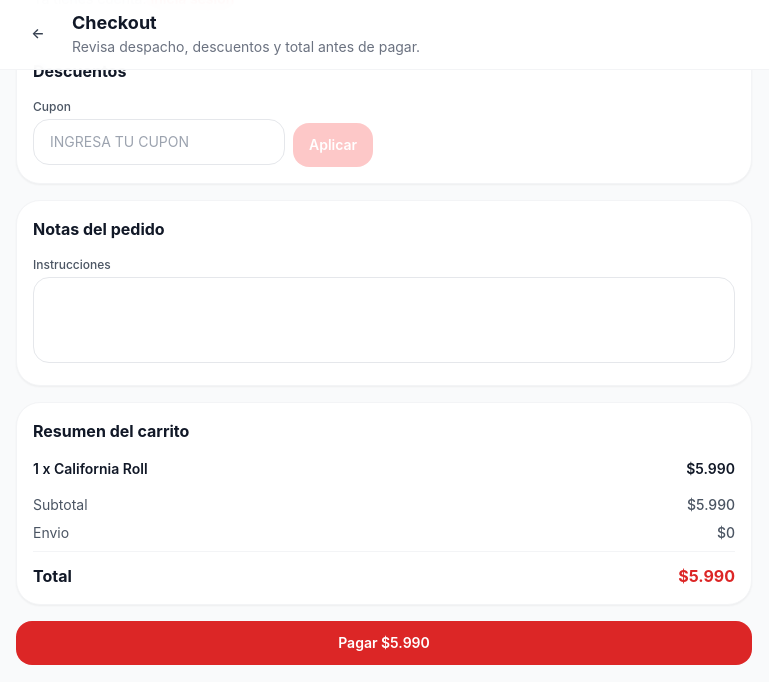
Test case: CheckoutPage › validates required guest email before submitting
(page scrolled)
Click the button "Pagar $5.990". click: point(384, 643)
box: [16,621,752,665]
(page scrolled)
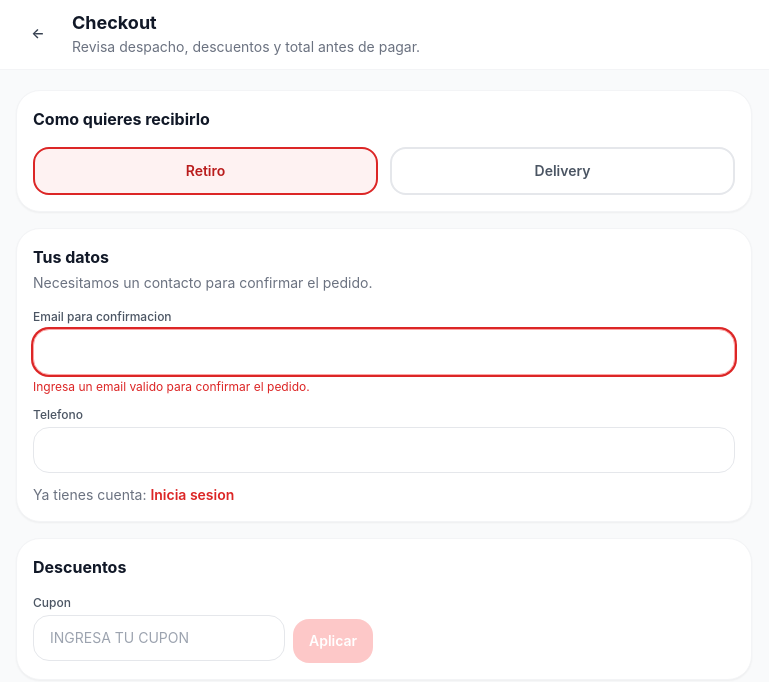
Expected: the text "Ingresa un email valido para confirmar el pedido." is shown, [33,379,310,394]
